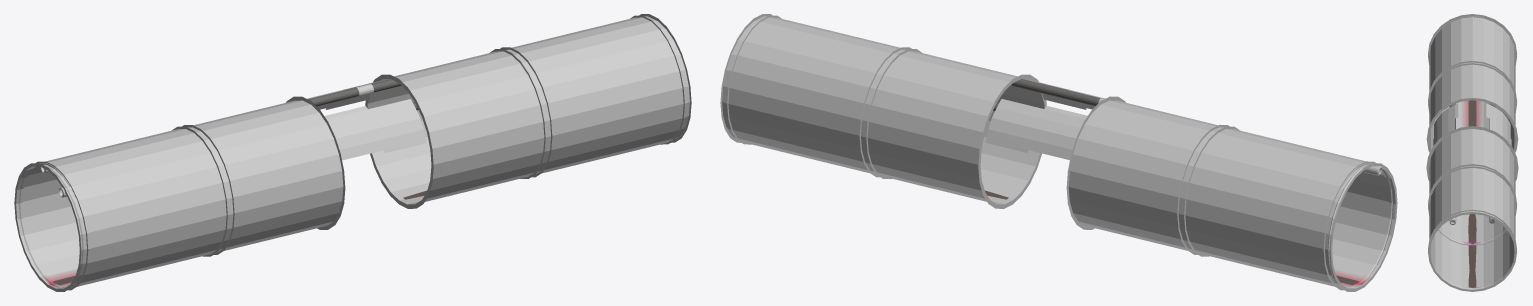
The model's file is AreaJ_Pipe_Inside_A.fbx.
The picture shows the model from 3 angles, left to right: view 1: azimuth 30°, elevation 25°; view 2: azimuth 150°, elevation 25°; view 3: azimuth 270°, elevation 25°; orthographic projection. The views are drawn at different scales.
Visible parts, largest first — view 1: SM_ENV_AMVLLG02_AreaJ_Pipe_Inside_A.mo; view 2: SM_ENV_AMVLLG02_AreaJ_Pipe_Inside_A.mo; view 3: SM_ENV_AMVLLG02_AreaJ_Pipe_Inside_A.mo.
Part boxes in pixels (left/top/right/bottom): SM_ENV_AMVLLG02_AreaJ_Pipe_Inside_A.mo: left=14, top=14, right=691, bottom=291; SM_ENV_AMVLLG02_AreaJ_Pipe_Inside_A.mo: left=720, top=14, right=1397, bottom=291; SM_ENV_AMVLLG02_AreaJ_Pipe_Inside_A.mo: left=1426, top=14, right=1518, bottom=291.
Bounding box in the file's own units: 8559 × 1673 × 1673.
